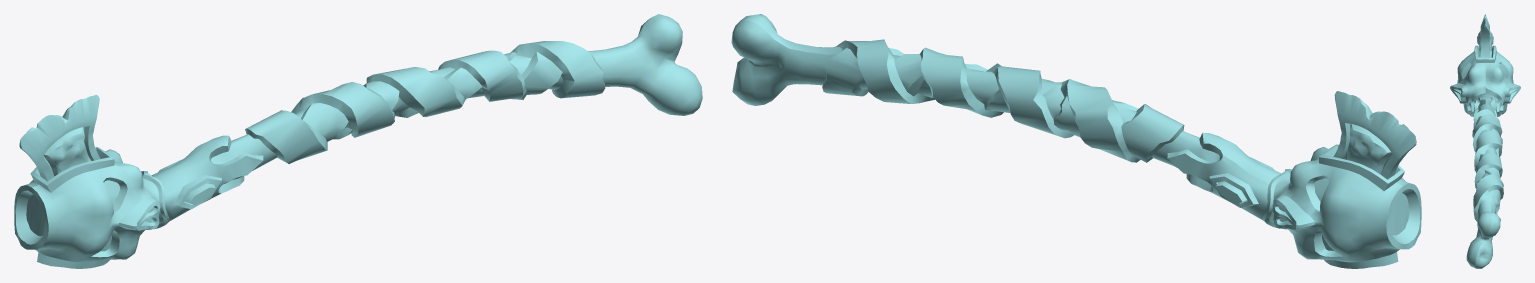
File: SM_Undead_Scythe_7.fbx
The picture shows the model from 3 angles, left to right: view 1: azimuth 30°, elevation 25°; view 2: azimuth 150°, elevation 25°; view 3: azimuth 270°, elevation 25°; orthographic projection. The views are drawn at different scales.
Visible parts, largest first — view 1: SM_Undead_Scythe_7; view 2: SM_Undead_Scythe_7; view 3: SM_Undead_Scythe_7.
Boxes of the visible parts, <box> form: SM_Undead_Scythe_7: <box>14,14,702,268</box>; SM_Undead_Scythe_7: <box>731,14,1421,268</box>; SM_Undead_Scythe_7: <box>1450,14,1520,268</box>.
Bounding box in the file's own units: 0.9106 × 0.2148 × 0.1486.
